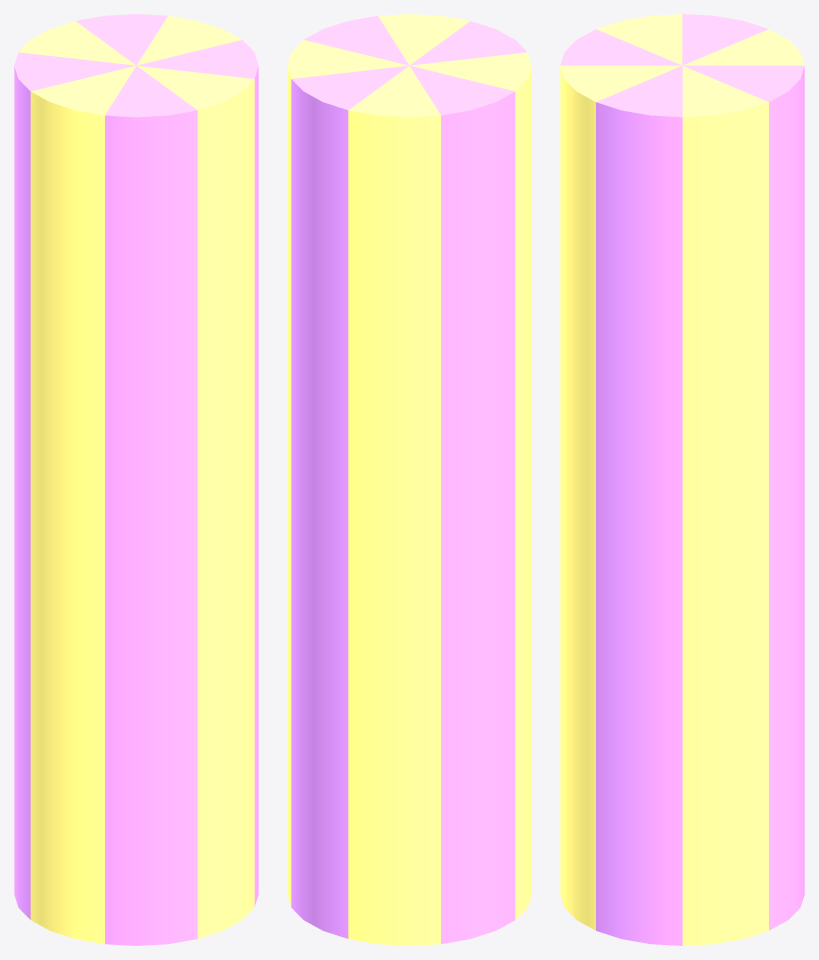
3 renders of one model, left to right at view 1: azimuth 30°, elevation 25°; view 2: azimuth 150°, elevation 25°; view 3: azimuth 270°, elevation 25°, orthographic.
Parts seen in each view (by area): view 1: model_5; view 2: model_5; view 3: model_5.
Part boxes in pixels (x1=…): model_5: x1=14, y1=14, x2=258, y2=945; model_5: x1=287, y1=14, x2=531, y2=945; model_5: x1=560, y1=14, x2=804, y2=945.
Size of the model in its own units: 0.1016 by 0.38 by 0.1016.
